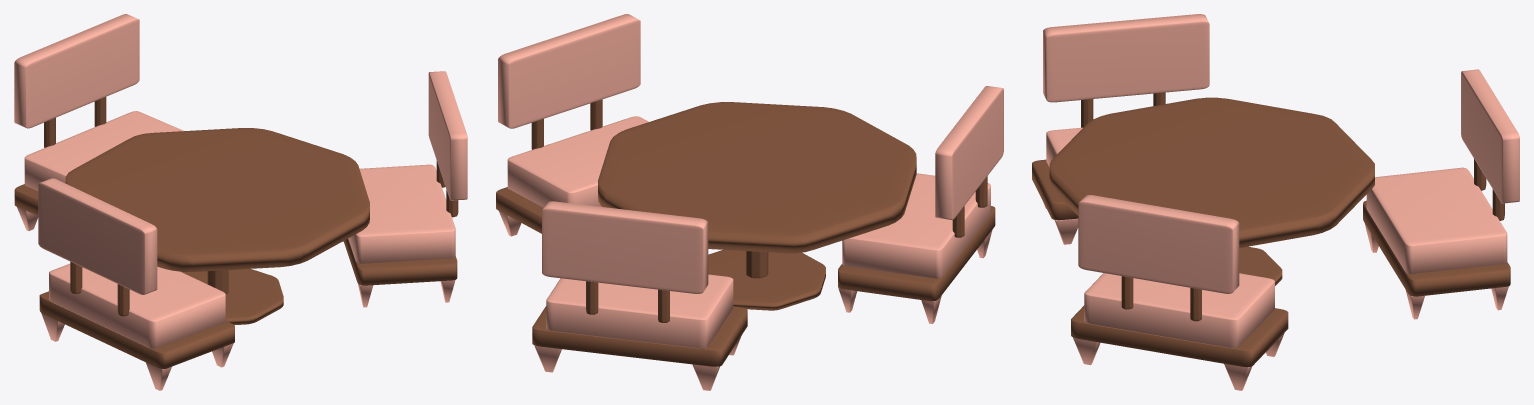
File: Chair and Tables.fbx
3 renders of one model, left to right at view 1: azimuth 30°, elevation 25°; view 2: azimuth 150°, elevation 25°; view 3: azimuth 270°, elevation 25°, orthographic. The views are drawn at different scales.
Visible parts, largest first — view 1: Table Top, Chair Head, Chair Head.001, Chair Cushion.002, Chair Cushion.004, Chair Cushion, Chair Cushion.003, Chair Head.002, Table Base, Chair Cushion.005, Chair Cushion.001, Table Leg; view 2: Table Top, Chair Head, Chair Head.002, Chair Cushion, Chair Cushion.002, Chair Cushion.004, Chair Head.001, Table Base, Chair Cushion.001, Chair Cushion.003, Chair Cushion.005, Table Leg (+2 smaller); view 3: Table Top, Chair Head.001, Chair Head.002, Chair Cushion, Chair Cushion.004, Chair Head, Chair Cushion.005, Chair Cushion.001, Chair Cushion.003, Table Base, Chair Cushion.002, Chair Leg.011 (+3 smaller).
Boxes of the visible parts, bbox=[...] form: Table Top: bbox=[65, 128, 369, 271]; Chair Head: bbox=[14, 14, 139, 128]; Chair Head.001: bbox=[38, 178, 157, 294]; Chair Cushion.002: bbox=[49, 263, 225, 348]; Chair Cushion.004: bbox=[348, 164, 455, 263]; Chair Cushion: bbox=[24, 111, 183, 190]; Chair Cushion.003: bbox=[39, 291, 234, 368]; Chair Head.002: bbox=[428, 71, 467, 200]; Table Base: bbox=[181, 269, 283, 325]; Chair Cushion.005: bbox=[343, 239, 457, 285]; Chair Cushion.001: bbox=[14, 184, 38, 215]; Table Leg: bbox=[207, 270, 228, 294]; Table Top: bbox=[598, 102, 916, 253]; Chair Head: bbox=[542, 201, 708, 293]; Chair Head.002: bbox=[498, 14, 640, 128]; Chair Cushion: bbox=[546, 274, 733, 348]; Chair Cushion.002: bbox=[842, 173, 990, 278]; Chair Cushion.004: bbox=[507, 116, 648, 207]; Chair Head.001: bbox=[935, 86, 1003, 219]; Table Base: bbox=[708, 249, 825, 310]; Chair Cushion.001: bbox=[532, 306, 747, 366]; Chair Cushion.003: bbox=[838, 206, 995, 301]; Chair Cushion.005: bbox=[496, 187, 543, 233]; Table Leg: bbox=[746, 251, 768, 278]; Table Top: bbox=[1049, 97, 1374, 247]; Chair Head.001: bbox=[1043, 14, 1209, 102]; Chair Head.002: bbox=[1078, 195, 1239, 293]; Chair Cushion: bbox=[1366, 167, 1507, 273]; Chair Cushion.004: bbox=[1084, 273, 1274, 348]; Chair Head: bbox=[1461, 69, 1519, 203]; Chair Cushion.005: bbox=[1071, 305, 1288, 367]; Chair Cushion.001: bbox=[1363, 200, 1510, 296]; Chair Cushion.003: bbox=[1032, 159, 1078, 220]; Table Base: bbox=[1239, 246, 1282, 285]; Chair Cushion.002: bbox=[1046, 127, 1082, 167]; Chair Leg.011: bbox=[1224, 363, 1252, 390].
Bounding box in the file's own units: 304 × 114 × 293.
